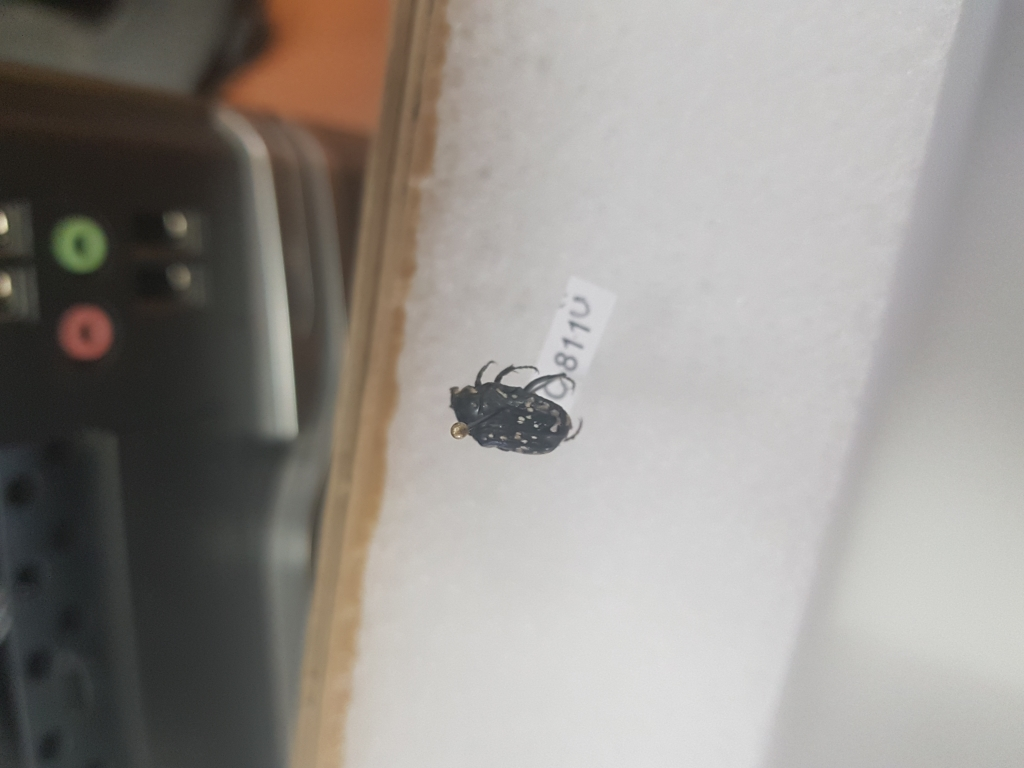Oxythyrea_albopicta: (443, 359, 593, 455)
